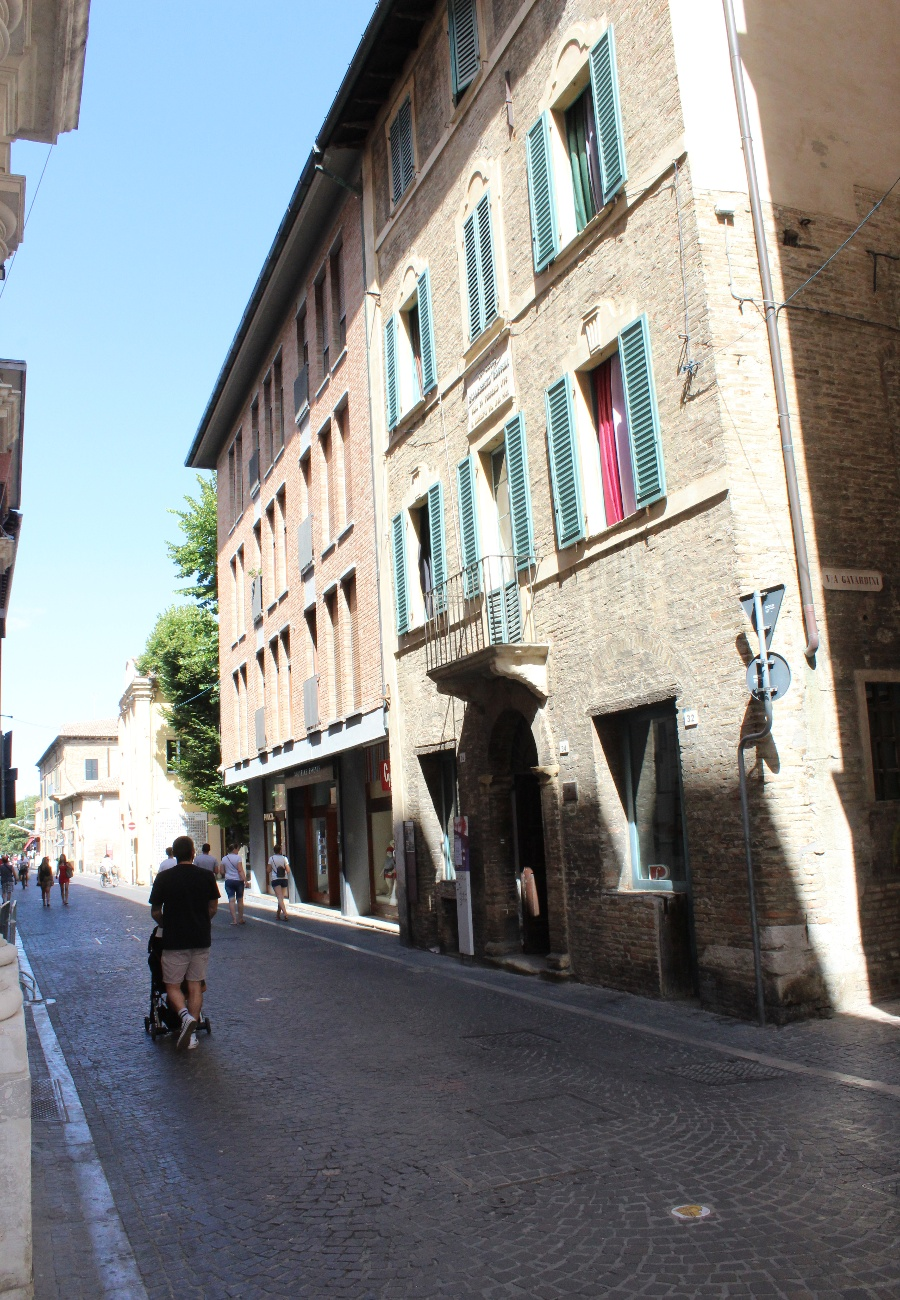Casa Rossini: (383, 14, 790, 1009)
